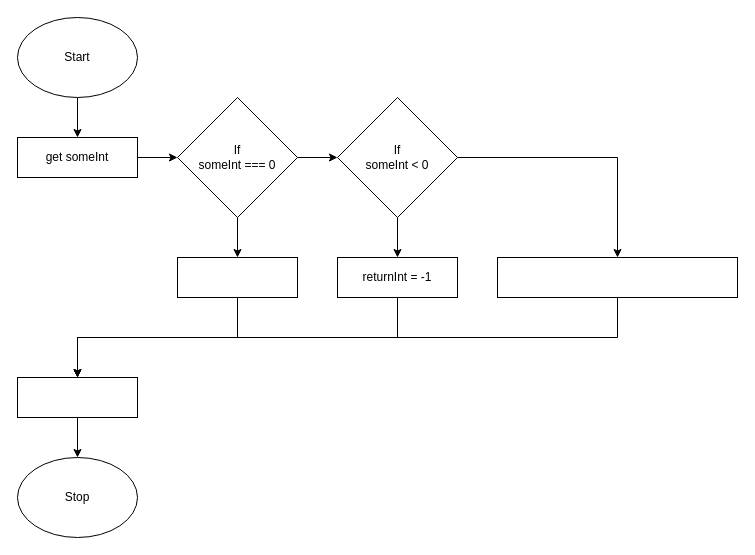
This 755x555 diagram has some shape labels left out. The centre of each missing label's shape, as x and y in pixels:
"return returnInt" belongs at (x=77, y=397).
"returnInt = 1" belongs at (x=237, y=277).
"returnInt = factorial(someInt - 1) * someInt" belongs at (x=617, y=277).
